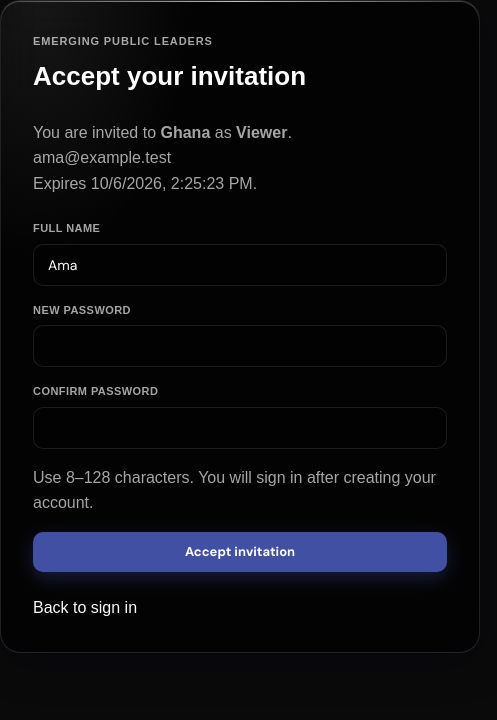
Test: invitation acceptance › rejects mismatched passwords
Check: the password field labelled "New password" is shown, box [33,325,447,367]
Replace the text in the field labelled "Full name" with "  Ama Mensah  ". click: (240, 265)
box: [33,244,447,286]
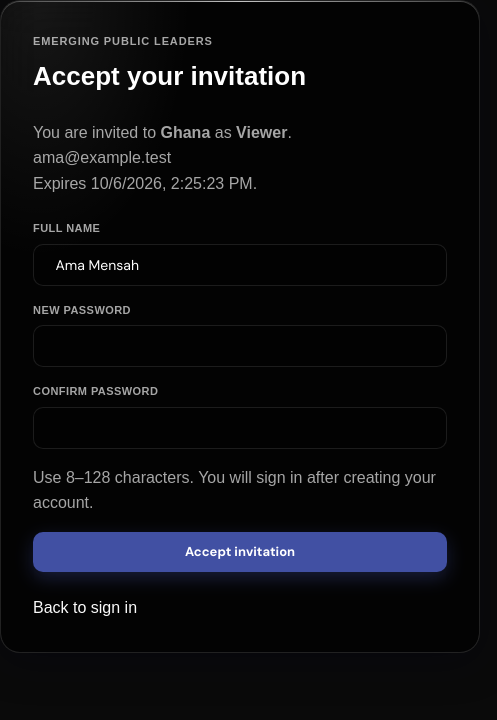
Type "Chosen-password-123" into the password field labelled "New password". click: (240, 346)
box: [33,325,447,367]
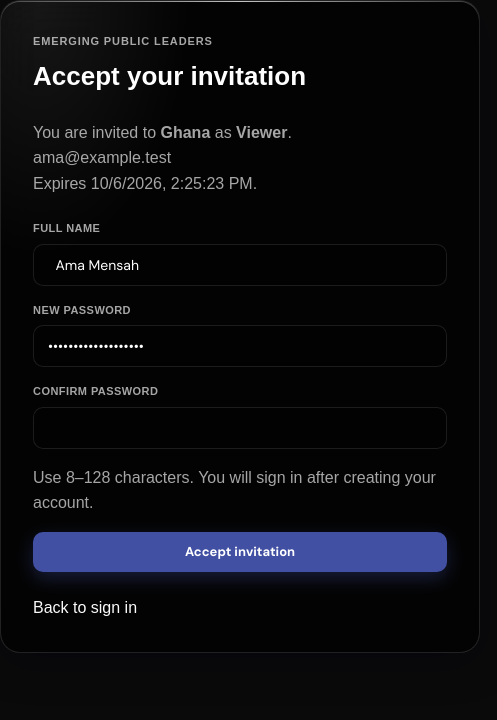
Type "Mismatch-password" into the password field labelled "Confirm password". click: (240, 428)
box: [33,407,447,449]
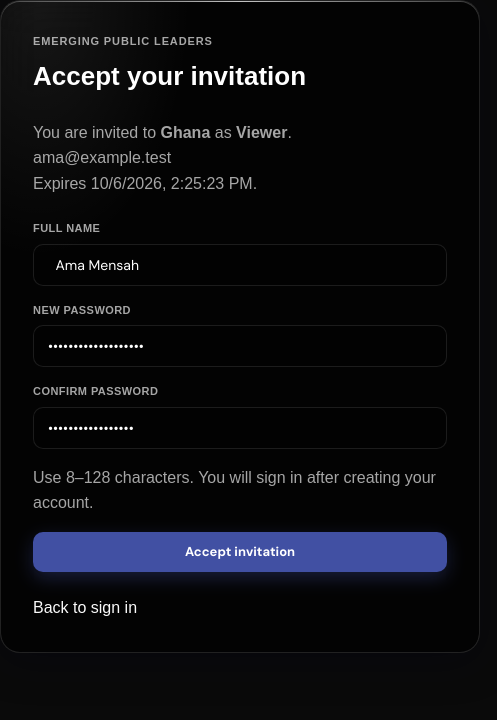
Click the button "Accept invitation". click: click(240, 552)
box: [33,532,447,572]
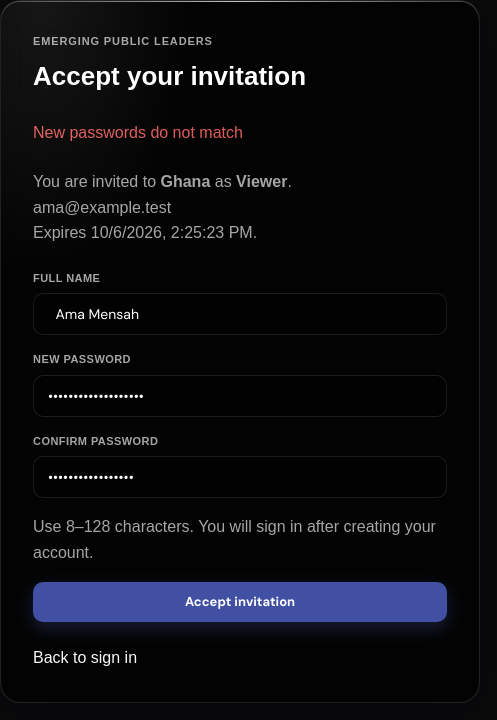
Check: the message shows "do not match", box [33,124,243,141]
